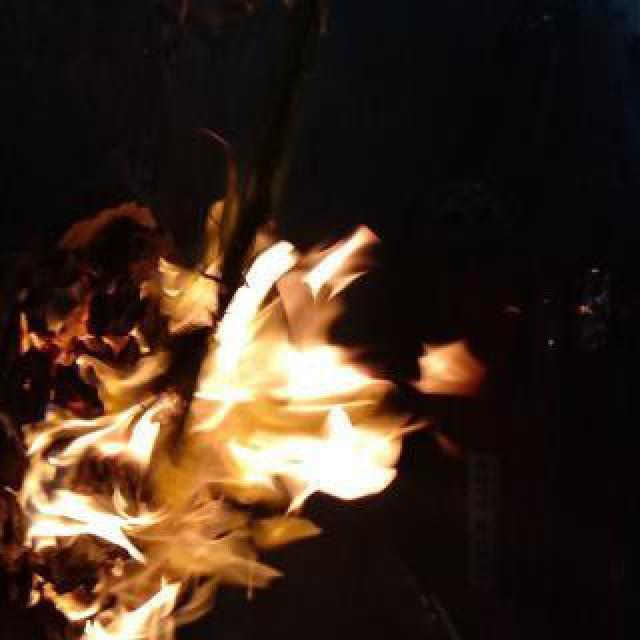Fire: (18, 212, 478, 632)
